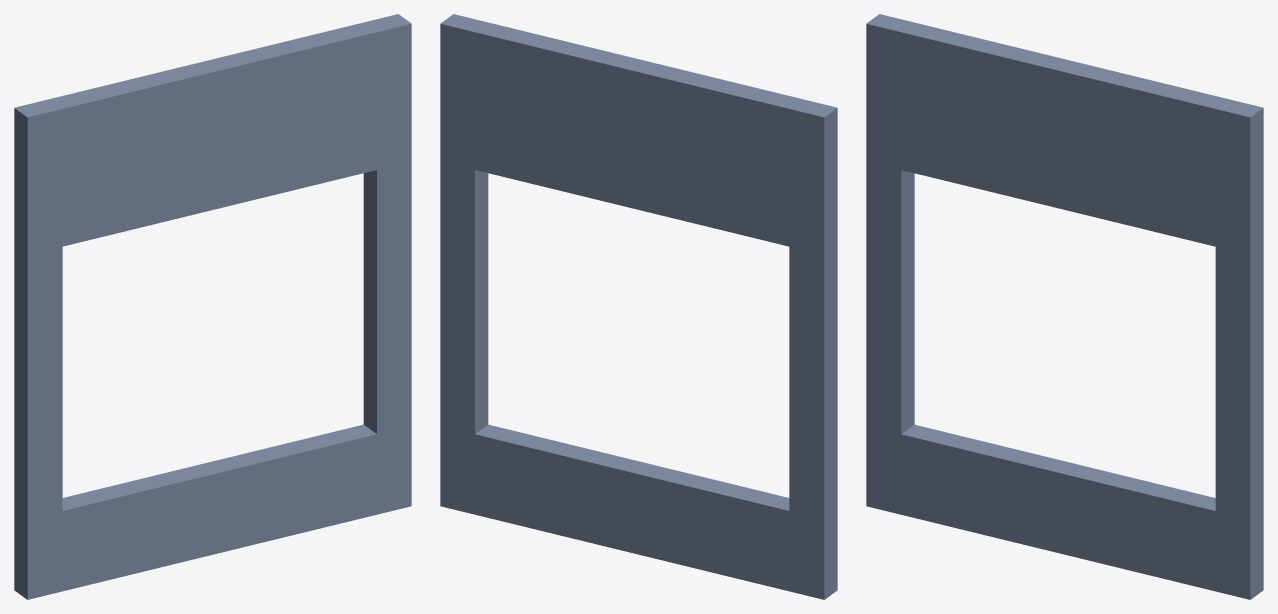
The model's file is Wall3_C1_05.fbx.
3 renders of one model, left to right at view 1: azimuth 30°, elevation 25°; view 2: azimuth 150°, elevation 25°; view 3: azimuth 330°, elevation 25°, orthographic.
Parts seen in each view (by area): view 1: Wall3_C1_05; view 2: Wall3_C1_05; view 3: Wall3_C1_05.
Boxes of the visible parts, box(x1,y1,x2,y2) form: Wall3_C1_05: box(14, 14, 411, 599); Wall3_C1_05: box(440, 14, 837, 599); Wall3_C1_05: box(866, 14, 1263, 599).
Bounding box in the file's own units: 250 × 300 × 15.
